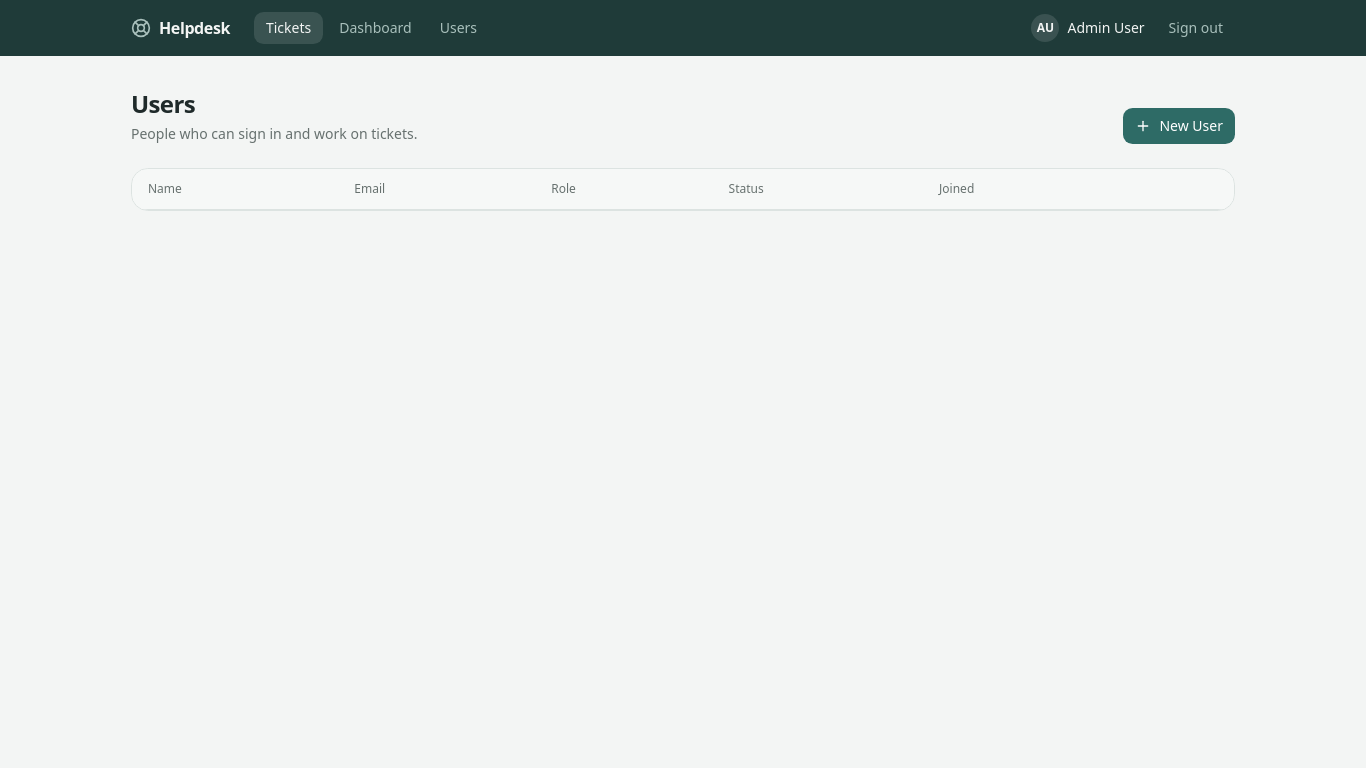
Scenario: user dialog wiring › hides the dialog when the Escape key is pressed
Expected: the heading "Create user" is not shown
Click the button "New User" at (1179, 126), box [1124,108,1235,144]
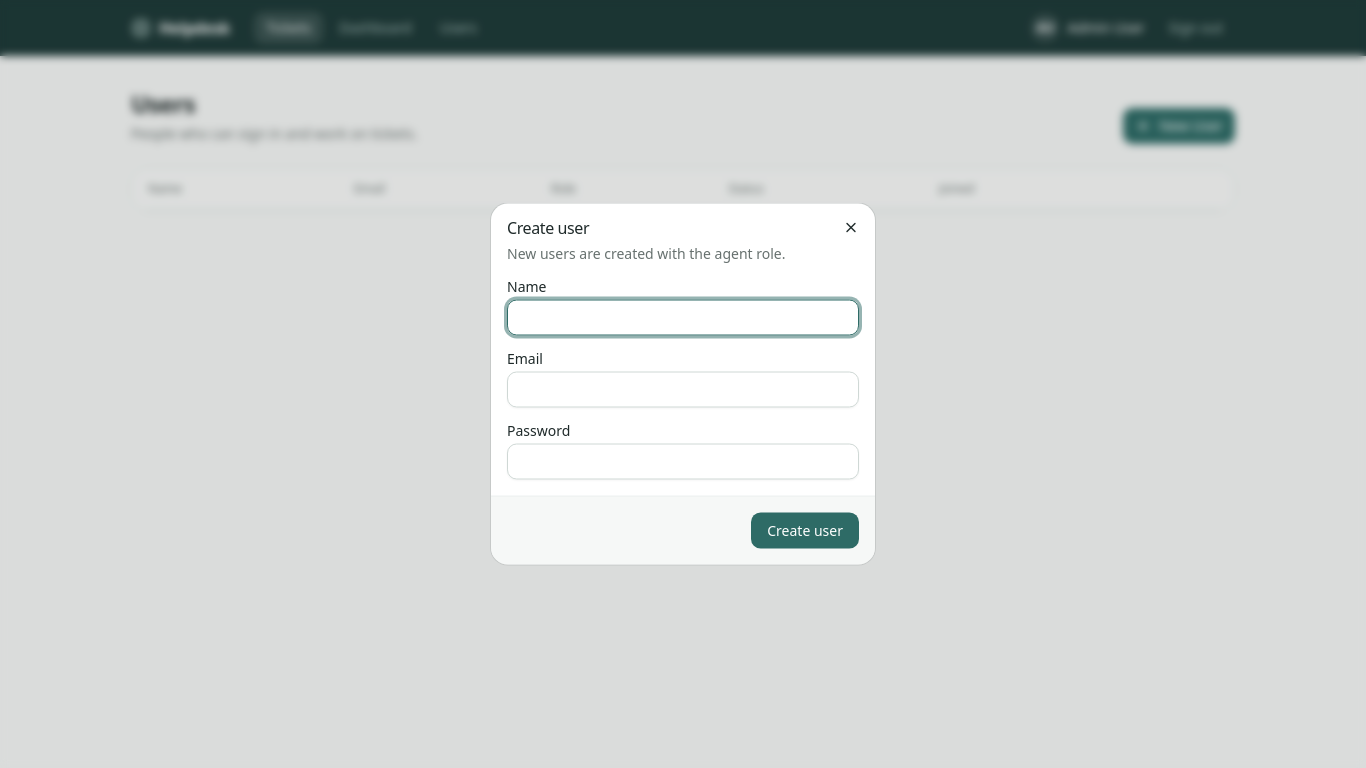
Expected: the heading "Create user" is shown, [507,216,589,238]
Press Escape
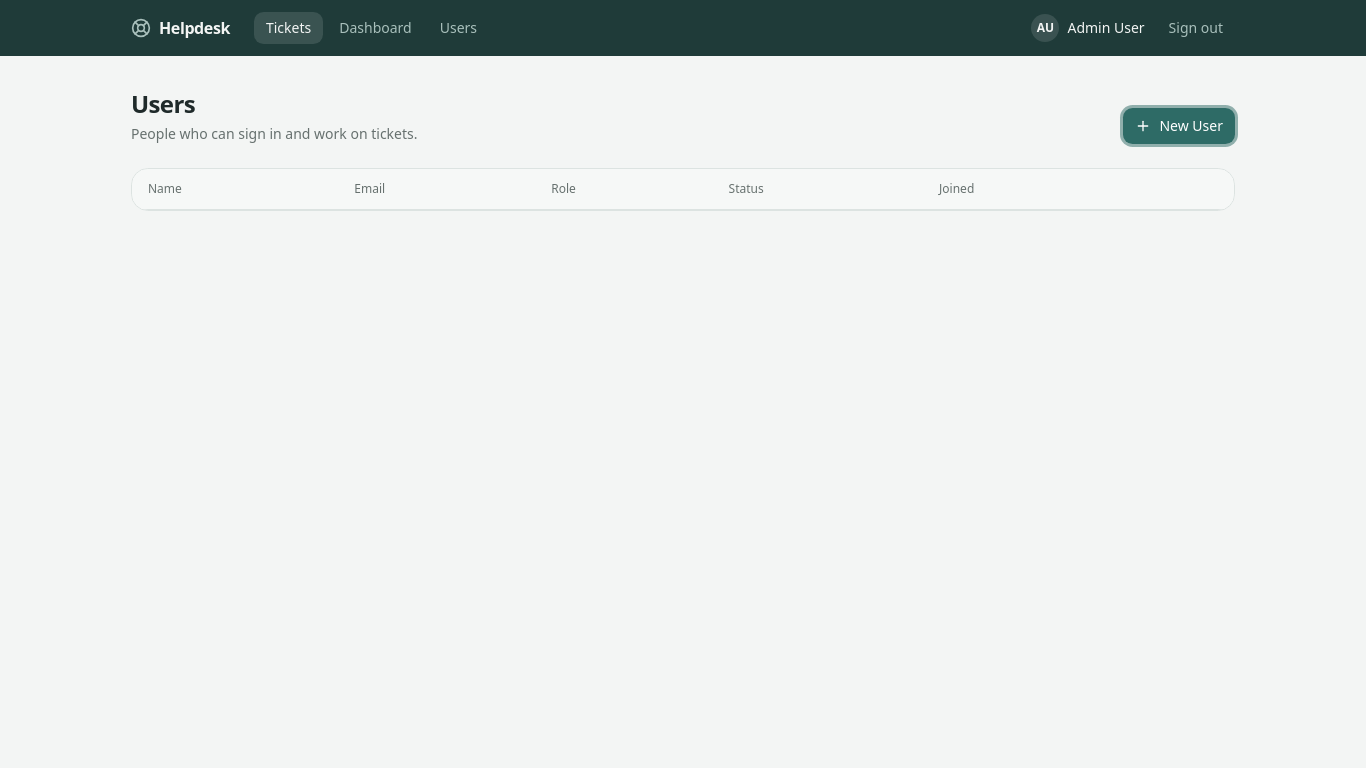
Expected: the heading "Create user" is gone
